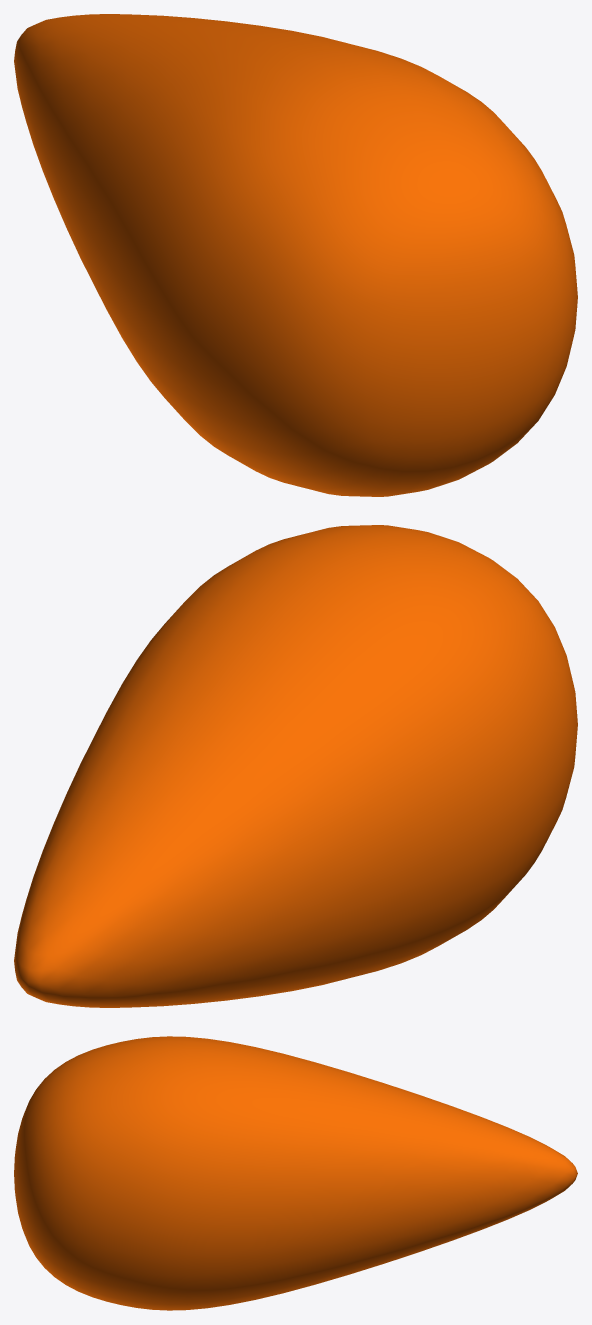
Rendered from Fire_bullet.fbx.
3 renders of one model, top to bottom at view 1: azimuth 30°, elevation 25°; view 2: azimuth 150°, elevation 25°; view 3: azimuth 270°, elevation 25°, orthographic. The views are drawn at different scales.
Visible parts, largest first — view 1: pCube2; view 2: pCube2; view 3: pCube2.
Boxes of the visible parts, <box> form: pCube2: <box>14,14,577,496</box>; pCube2: <box>14,525,577,1007</box>; pCube2: <box>14,1036,577,1310</box>.
Bounding box in the file's own units: 1.8 × 1.8 × 3.76.
